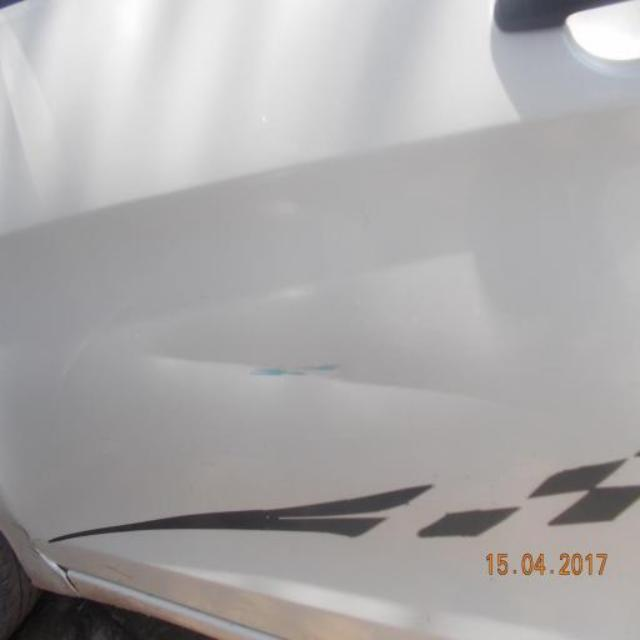dent: (141, 356, 561, 411)
scratch: (110, 239, 487, 336), (250, 363, 342, 379)
